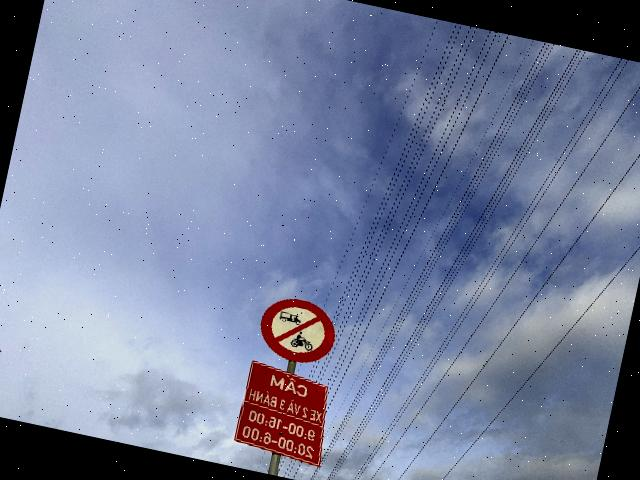cam-xe-2-banh-3-banh: (253, 292, 341, 369)
